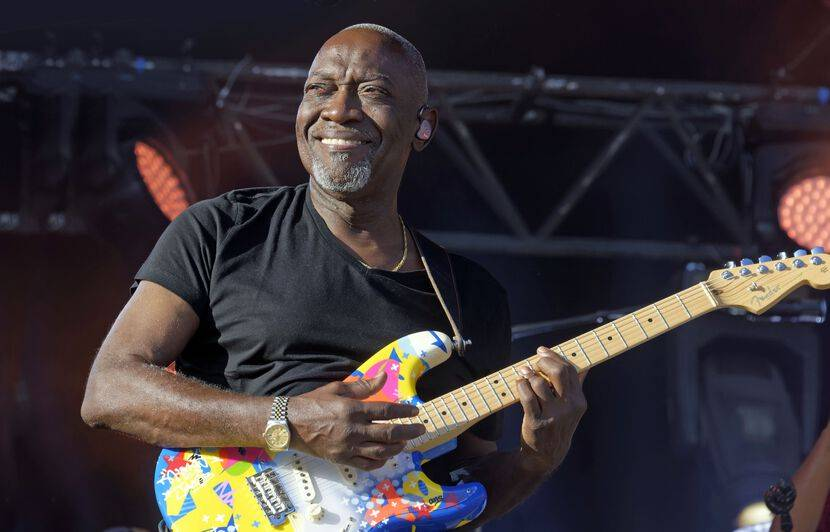without_mask: (304, 78, 401, 173)
